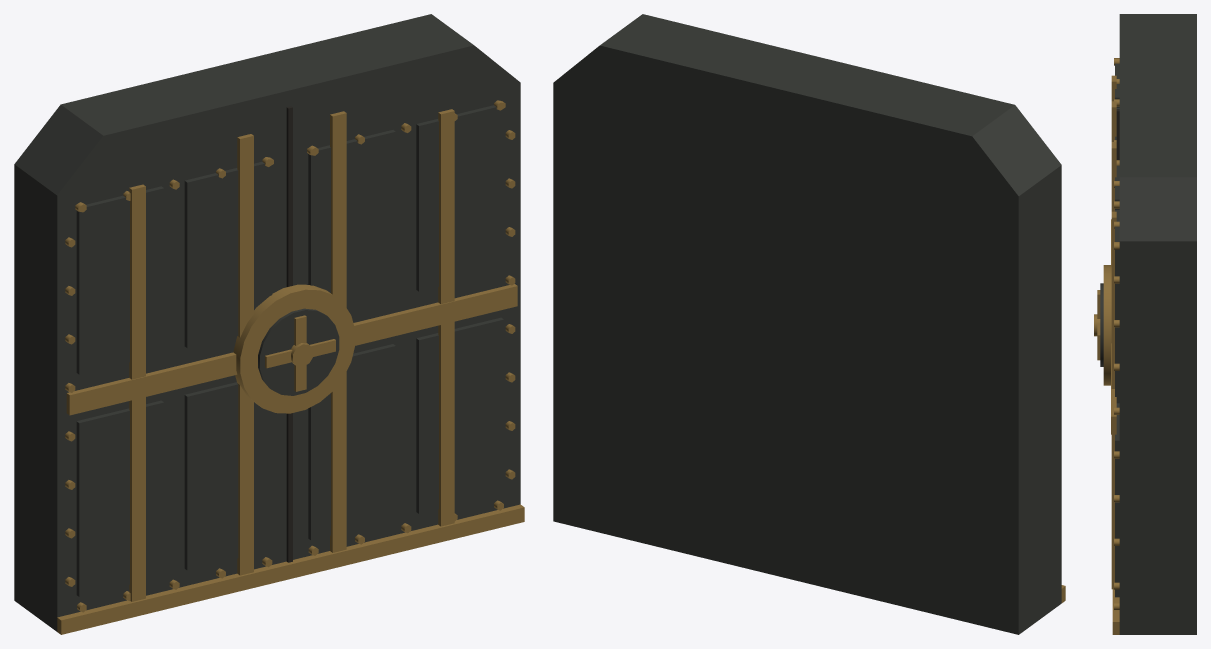
File: gate_door.glb
3 renders of one model, left to right at view 1: azimuth 30°, elevation 25°; view 2: azimuth 150°, elevation 25°; view 3: azimuth 270°, elevation 25°, orthographic. The views are drawn at different scales.
Parts seen in each view (by area): view 1: gate_door; view 2: gate_door; view 3: gate_door.
Boxes of the visible parts, x1,y1,x2,y2 form: gate_door: [14, 14, 524, 634]; gate_door: [553, 14, 1065, 634]; gate_door: [1094, 14, 1196, 634].
Size of the model in its own units: 6 by 6 by 1.28.
